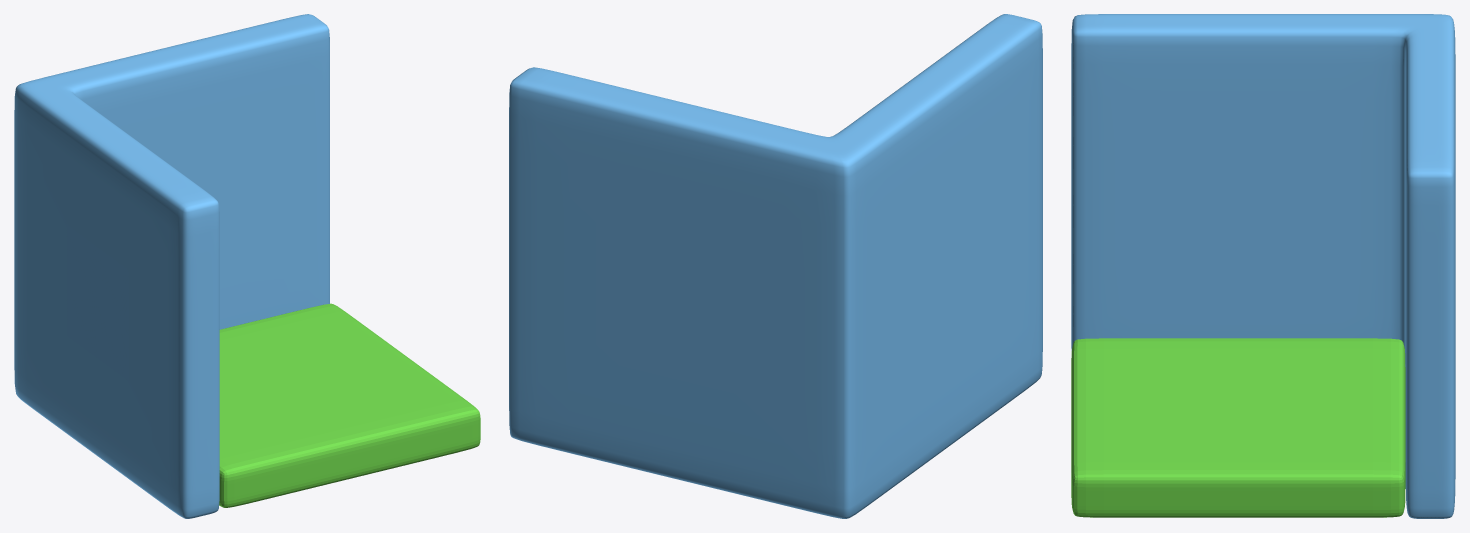
File: jam3enviro_001.fbx
The picture shows the model from 3 angles, left to right: view 1: azimuth 30°, elevation 25°; view 2: azimuth 150°, elevation 25°; view 3: azimuth 270°, elevation 25°; orthographic projection. The views are drawn at different scales.
Visible parts, largest first — view 1: Cube.001; view 2: Cube.001; view 3: Cube.001.
Part boxes in pixels (<box>): Cube.001: <box>14,14,480,518</box>; Cube.001: <box>509,14,1042,518</box>; Cube.001: <box>1071,14,1455,518</box>.
Size of the model in its own units: 700 by 702 by 700.
